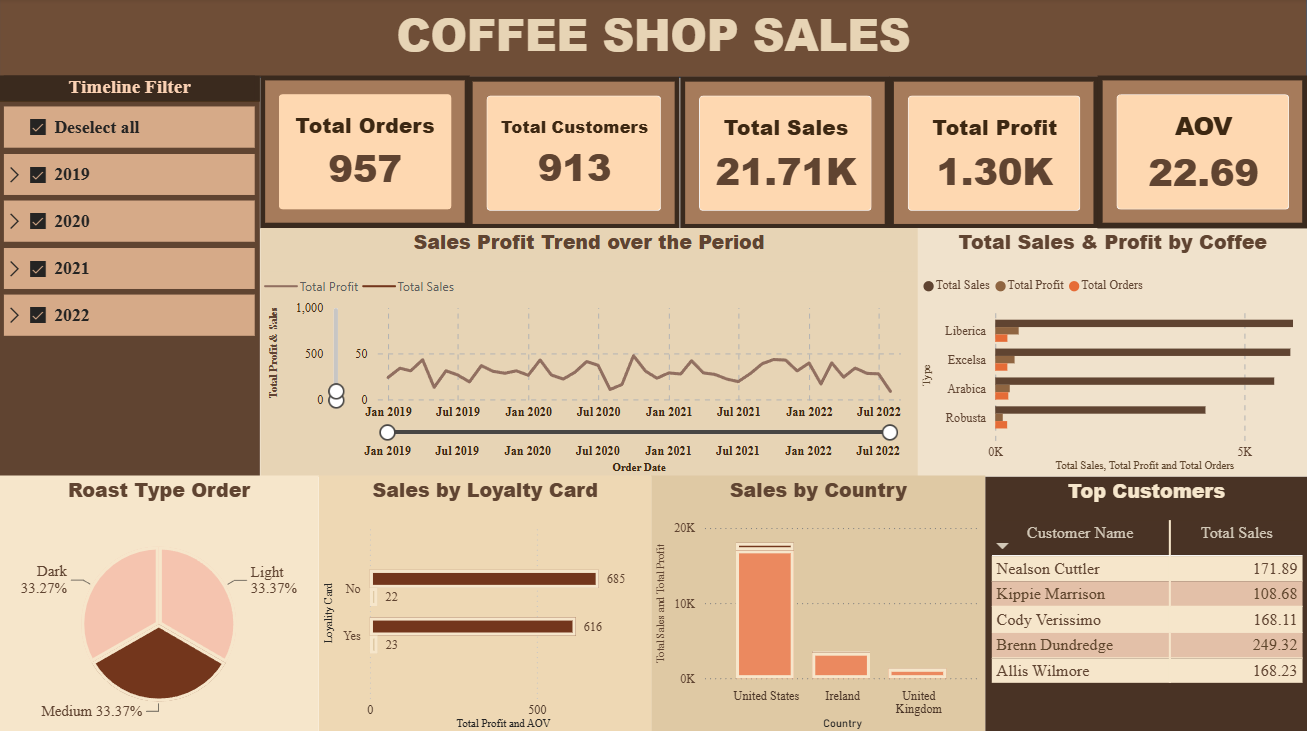

What the dashboard file says about the page in this screenshot:
{"tool":"powerbi","page":{"name":"Page 1","canvas":[1280,720],"ordinal":0},"visuals":[{"type":"shape","box":[0,0,1280.3,78.2],"z":0},{"type":"textbox","box":[0,0,1280.3,78.2],"z":1000},{"type":"cardVisual","fields":{"Data":["Orders.Total Orders"]},"box":[255.5,76.1,205,149.6],"z":2000},{"type":"cardVisual","fields":{"Data":["Orders.Total Sales"]},"box":[666,76.5,205,149.6],"z":3000},{"type":"cardVisual","fields":{"Data":["Count(Orders.Customer ID)"]},"box":[458.8,76.5,207.2,149.2],"z":4000},{"type":"cardVisual","fields":{"Data":["Orders.Total Profit"]},"box":[870.8,76.5,205,149.6],"z":5000},{"type":"listSlicer","title":"Timeline Filter","fields":{"Values":["Orders.Order Date.Variation.Date Hierarchy.Year","Orders.Order Date.Variation.Date Hierarchy.Month"]},"box":[0,75.8,255.6,392.5],"z":6000},{"type":"lineChart","title":"Sales Profit Trend over the Period","fields":{"Y":["Orders.Total Profit","Orders.Total Sales"],"Category":["Orders.Order Date.Variation.Date Hierarchy.Year","Orders.Order Date.Variation.Date Hierarchy.Month"]},"box":[255.6,225,643.2,243.3],"z":7000},{"type":"clusteredBarChart","title":"Total Sales & Profit by Coffee","fields":{"Category":["Orders.Coffee Type Name"],"Y":["Orders.Total Sales","Orders.Total Profit","Orders.Total Orders"]},"box":[898.8,225,381.5,243.3],"z":8000},{"type":"pieChart","title":"Roast Type Order","fields":{"Category":["Orders.Roast Type Name "],"Y":["Orders.Total Orders"]},"box":[0,467.1,313,253.1],"z":9000},{"type":"tableEx","title":"Top  Customers","fields":{"Values":["Orders.Customer Name","Orders.Total Sales"]},"box":[964.5,467.9,315.8,252.6],"z":10000},{"type":"clusteredBarChart","title":"Sales by Loyalty Card","fields":{"Category":["Orders.Loyality Card"],"Y":["Orders.Total Profit","Orders.AOV"]},"box":[313,467.1,325.3,253.1],"z":11000},{"type":"columnChart","title":"Sales by Country","fields":{"Category":["Orders.Country"],"Y":["Orders.Total Sales","Orders.Total Profit"]},"box":[638.3,467.1,326.5,253.1],"z":12000},{"type":"cardVisual","fields":{"Data":["Orders.AOV"]},"box":[1075,76.1,205,149.6],"z":13000}]}

Visuals, with their boxes in screenshot pixels (x1, y1, x2, y2), scaled from the page's 1280x720 canvas onto the 1307x731 screenshot:
shape: <bbox>0, 0, 1306, 79</bbox>
textbox: <bbox>0, 0, 1306, 79</bbox>
cardVisual - Orders.Total Orders: <bbox>261, 77, 470, 229</bbox>
cardVisual - Orders.Total Sales: <bbox>680, 78, 889, 230</bbox>
cardVisual - Count(Orders.Customer ID): <bbox>468, 78, 680, 229</bbox>
cardVisual - Orders.Total Profit: <bbox>889, 78, 1098, 230</bbox>
"Timeline Filter" listSlicer: <bbox>0, 77, 261, 475</bbox>
"Sales Profit Trend over the Period" lineChart: <bbox>261, 228, 918, 475</bbox>
"Total Sales & Profit by Coffee" clusteredBarChart: <bbox>918, 228, 1306, 475</bbox>
"Roast Type Order" pieChart: <bbox>0, 474, 320, 730</bbox>
"Top  Customers" tableEx: <bbox>985, 475, 1306, 730</bbox>
"Sales by Loyalty Card" clusteredBarChart: <bbox>320, 474, 652, 730</bbox>
"Sales by Country" columnChart: <bbox>652, 474, 985, 730</bbox>
cardVisual - Orders.AOV: <bbox>1098, 77, 1306, 229</bbox>
